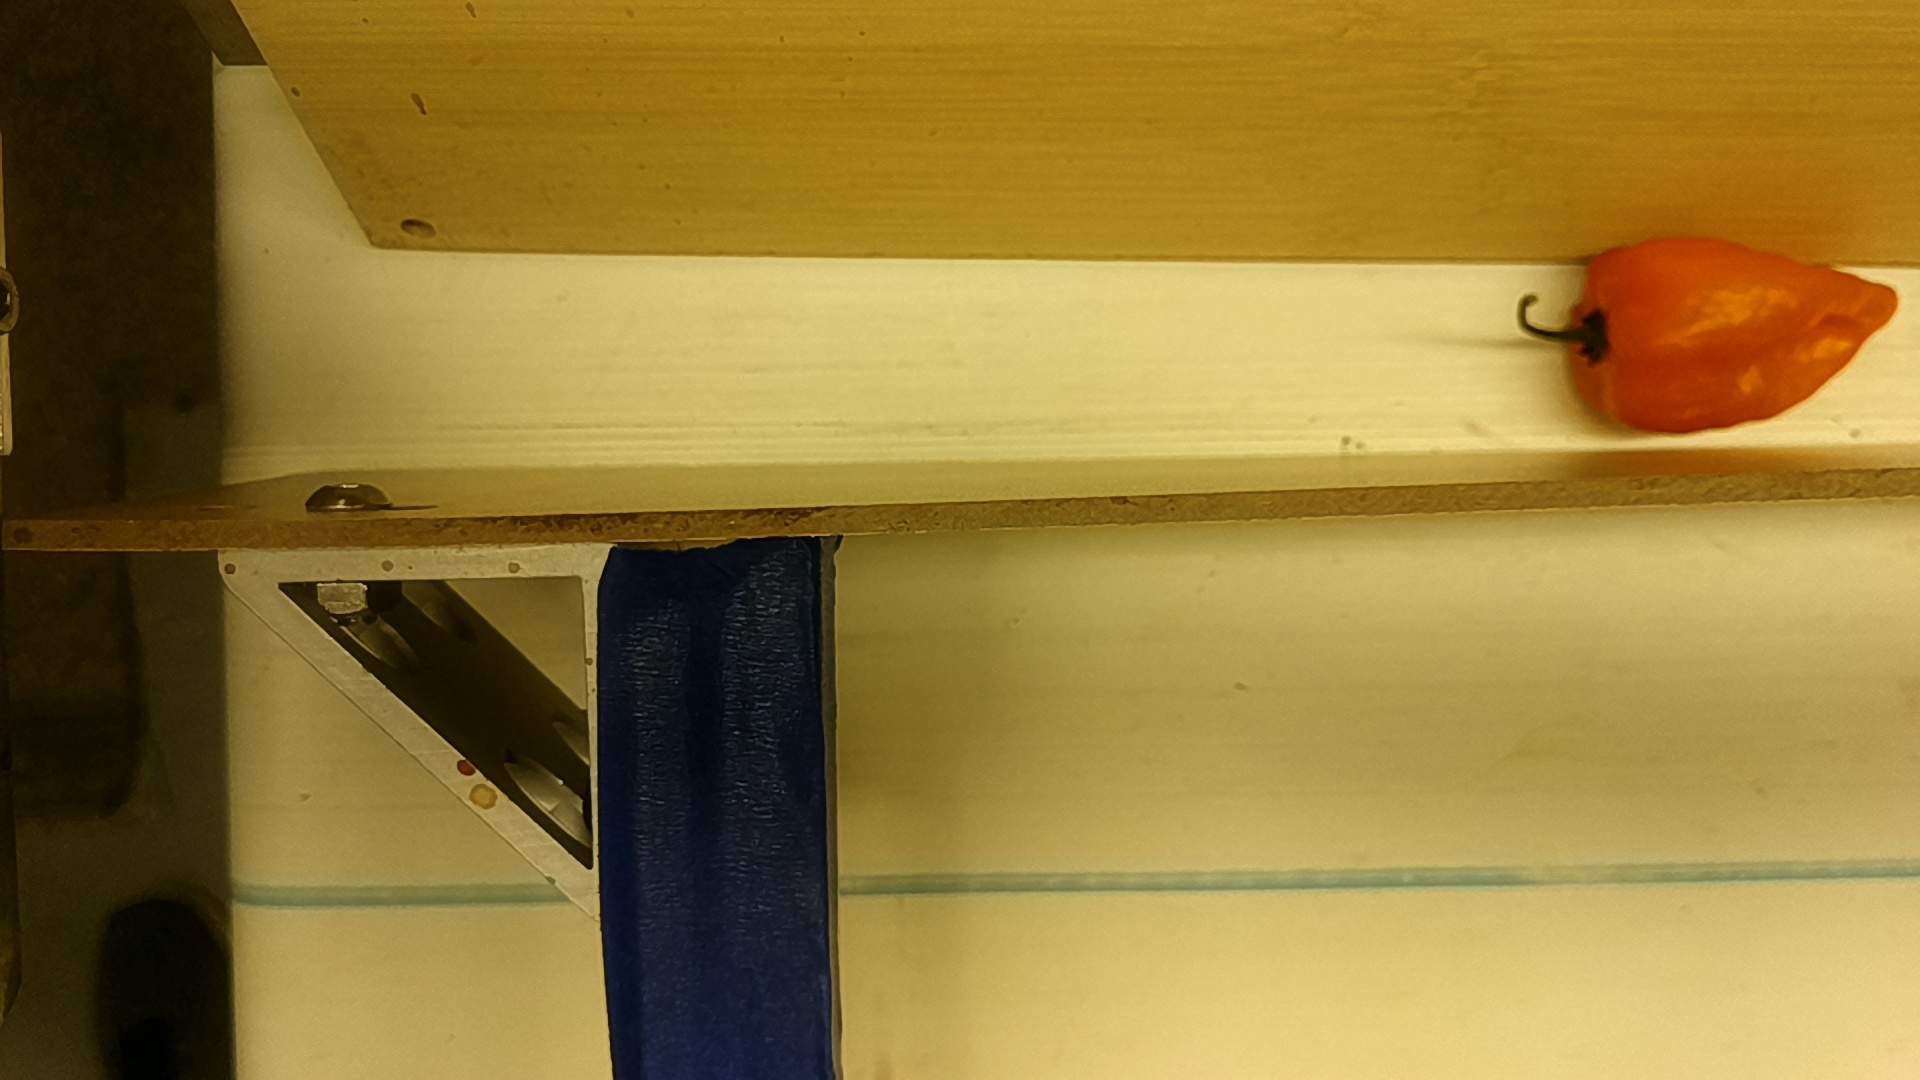Cut Point: (1572, 240, 1640, 429)
